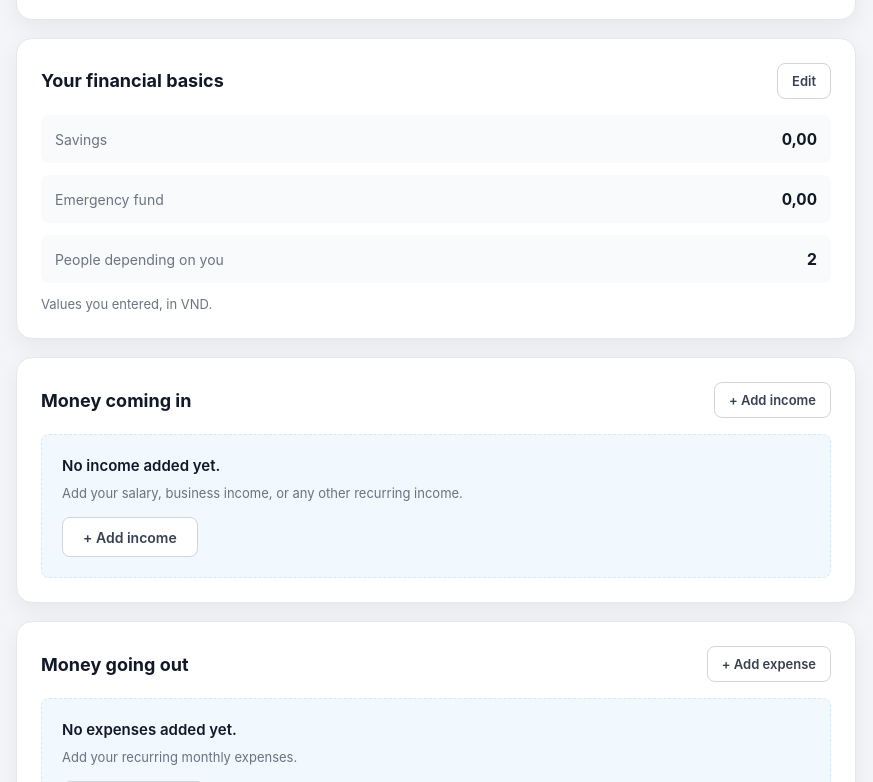
Test case: ProfileView › guides a fresh account to save the basics when the server reports the missing profile record
The width and height of the screenshot is (873, 782).
(page scrolled)
Step 1. Click the button "+ Add income" in the row of "Money coming in" → {"x": 772, "y": 400}, box 714,382 -> 831,418
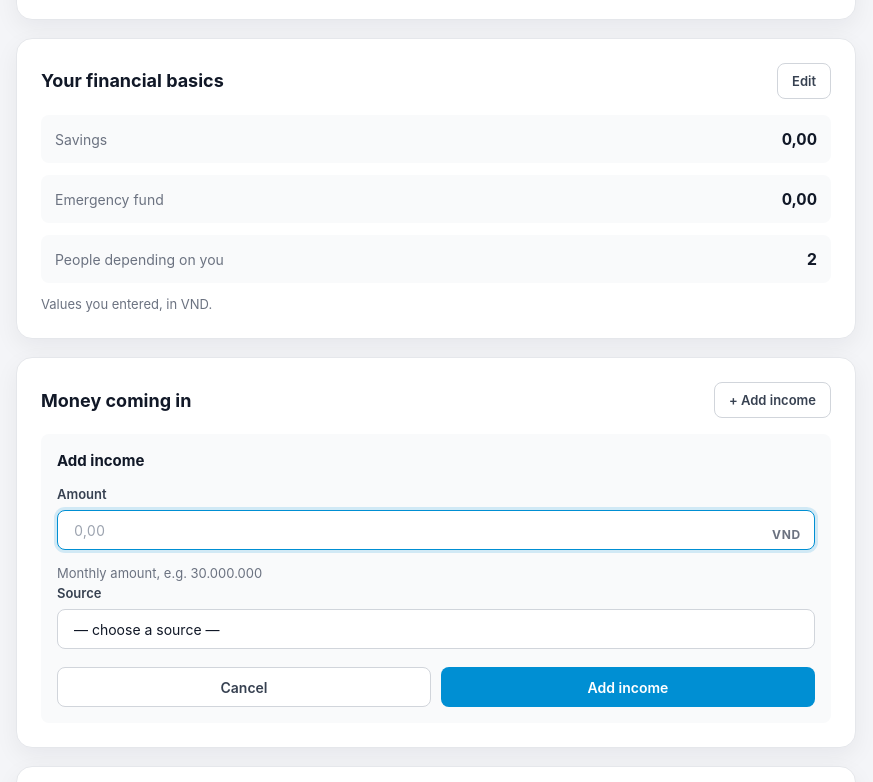
Step 2. Type "12,00" into the field with id "income-amount" → {"x": 436, "y": 530}, box 57,510 -> 815,550
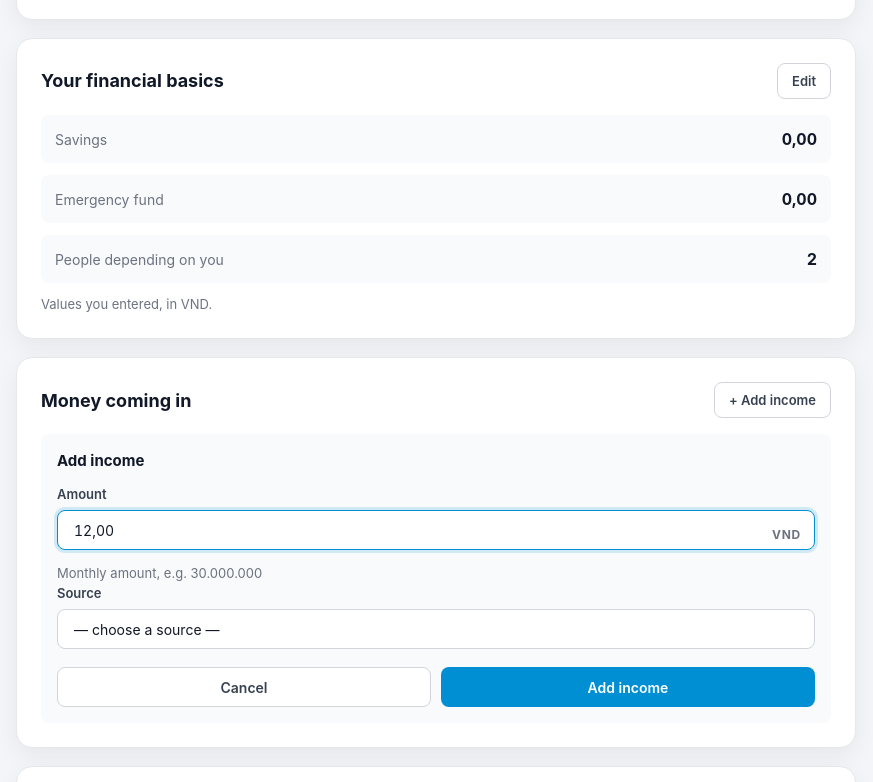
Step 3. Select "Investment / interest / dividend" in the dropdown with id "income-source" → {"x": 436, "y": 629}, box 57,609 -> 815,649
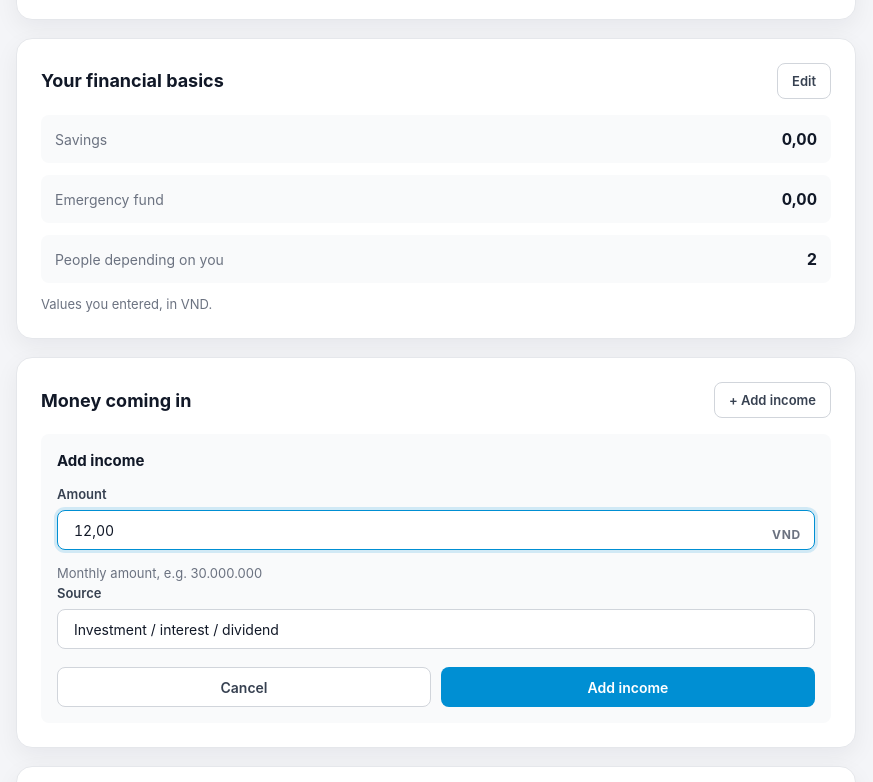
Step 4. Click the button "Add income" → {"x": 628, "y": 687}, box 441,667 -> 815,707
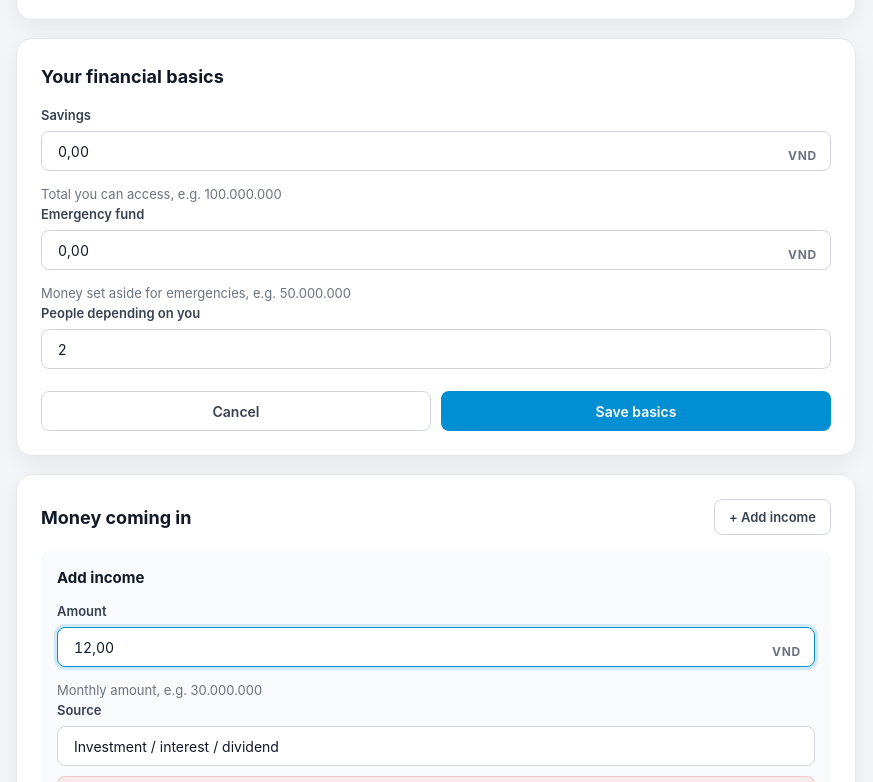
Result: the field with id "savings" is shown at 41,131 -> 831,171
